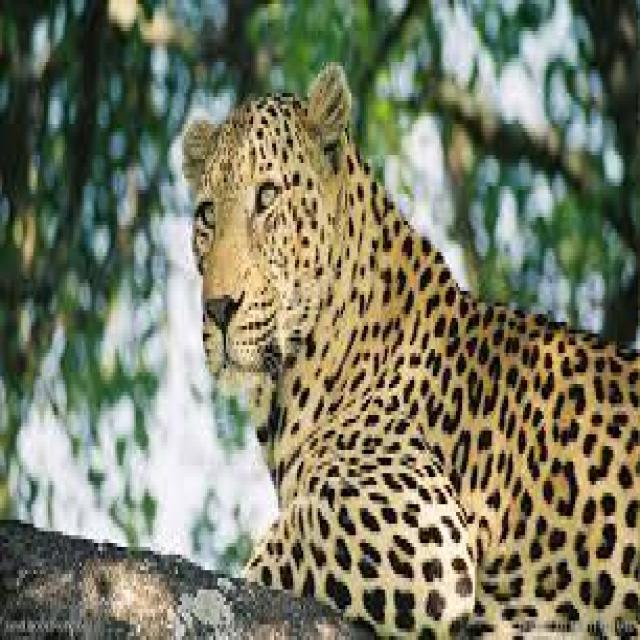Leopard: (180, 68, 639, 640)
